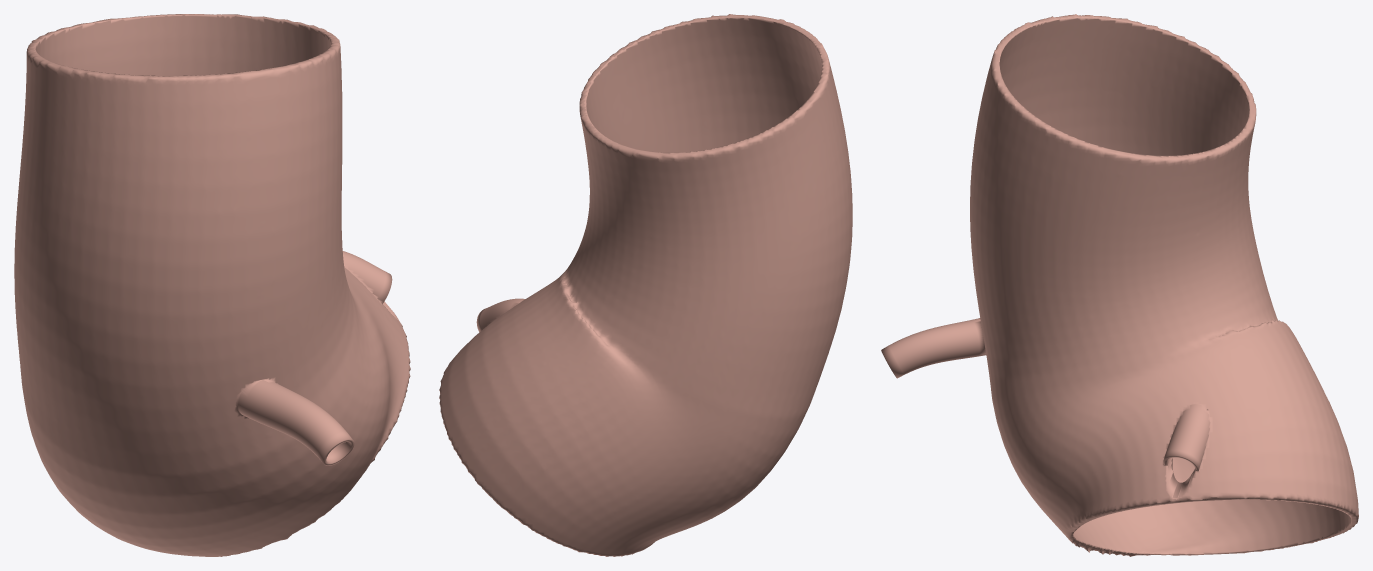
The picture shows the model from 3 angles, left to right: view 1: azimuth 30°, elevation 25°; view 2: azimuth 150°, elevation 25°; view 3: azimuth 270°, elevation 25°; orthographic projection. The views are drawn at different scales.
Parts seen in each view (by area): view 1: Authored hollow aortic root; view 2: Authored hollow aortic root; view 3: Authored hollow aortic root.
Part boxes in pixels (bbox=[...]): Authored hollow aortic root: bbox=[14, 14, 410, 556]; Authored hollow aortic root: bbox=[439, 14, 852, 556]; Authored hollow aortic root: bbox=[881, 14, 1358, 556].
Bounding box in the file's own units: 0.0415 × 0.0556 × 0.0494.
